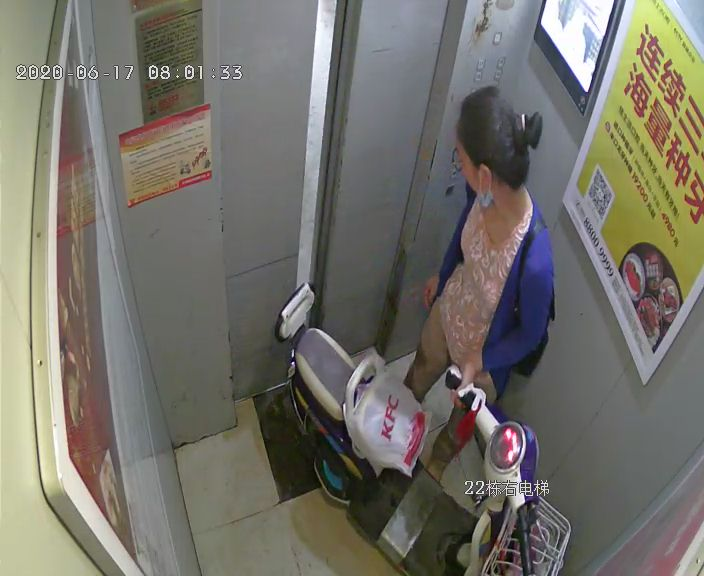Electric-bicycle: (265, 282, 570, 574)
